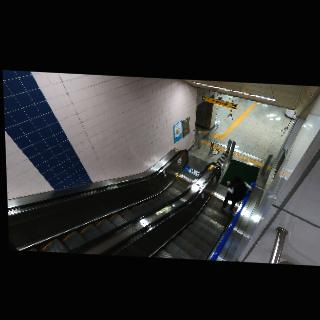normal: (219, 175, 254, 215)
